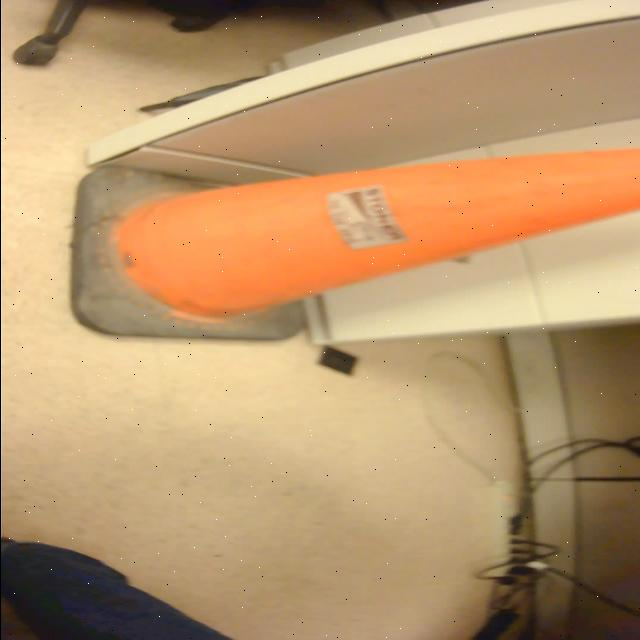traffic cone: (59, 146, 640, 350)
